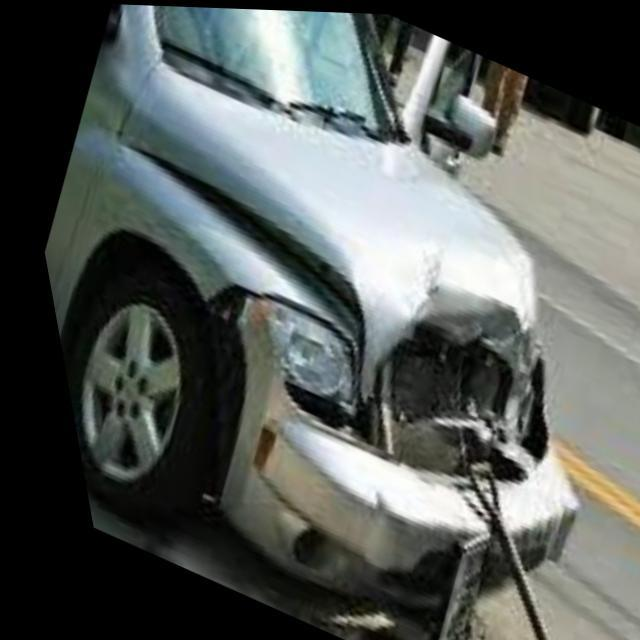dislocated part: (185, 264, 564, 613)
